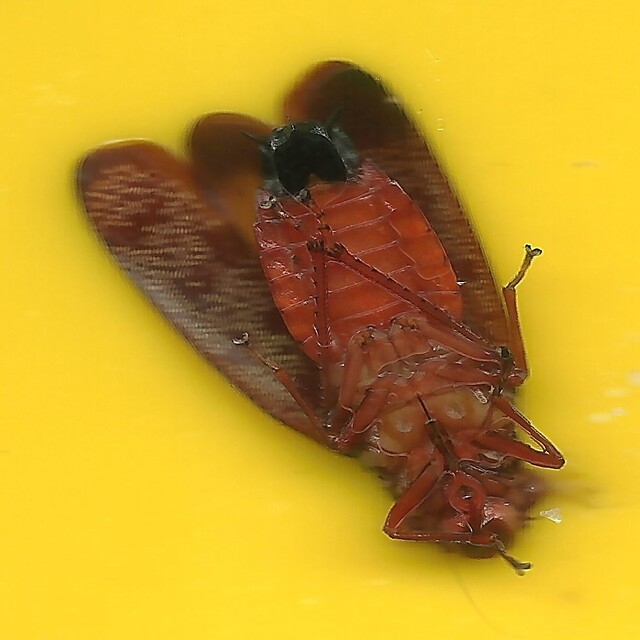Hemiptera: (76, 62, 564, 578)
